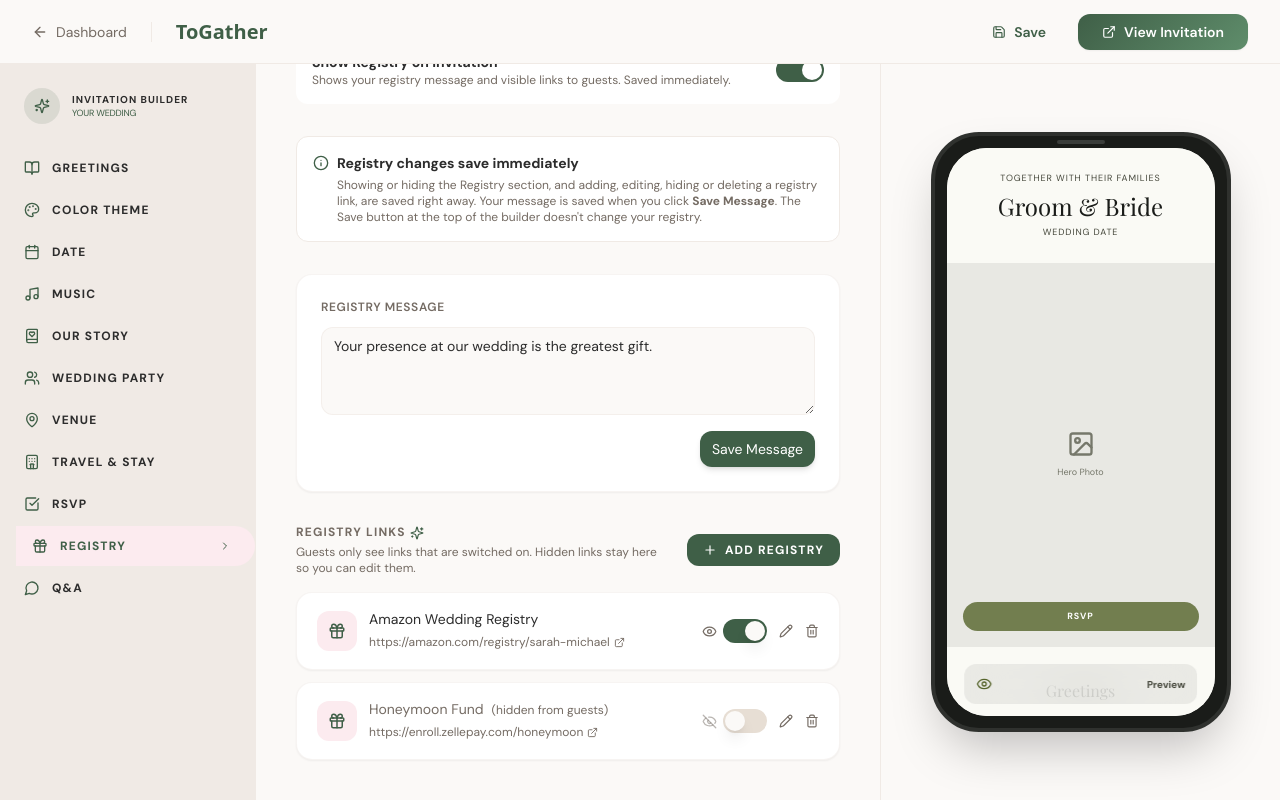
Test: Registry tab — add/edit modal › opens the edit modal populated with the registry values and saves changes
(page scrolled)
expect the element that starts with "Registry" is shown: met, box [256,64,880,799]
Click the button named "Edit Amazon Wedding Registry".
click(786, 631)  # box [779,624,793,638]
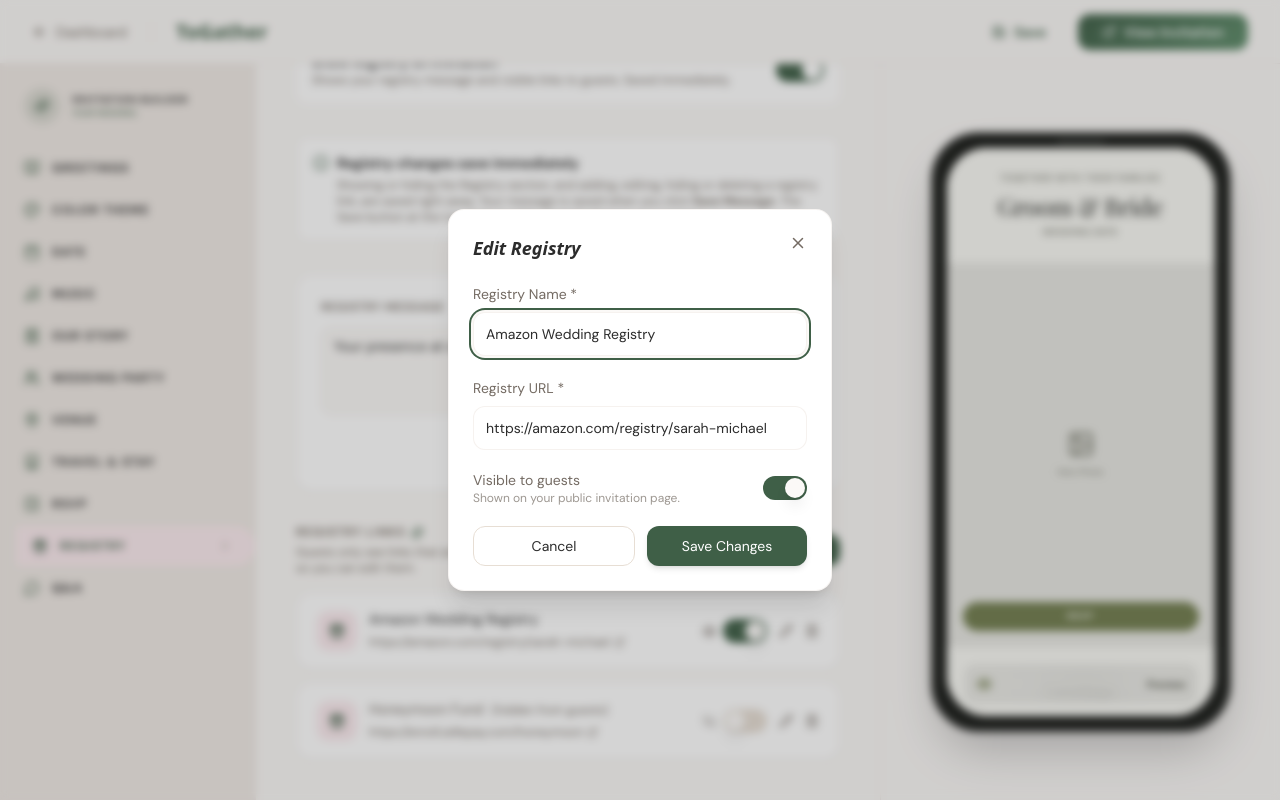
expect the field with placeholder "e.g. Amazon Wedding Registry" holds "Amazon Wedding Registry": met
expect the field with placeholder "https://www.example.com/registry/your-link" holds "https://amazon.com/registry/sarah-michael": met, box [473,406,807,450]
Replace the text in the field with placeholder "e.g. Amazon Wedding Registry" with "Amazon Registry (updated)" at (640, 334), box [473,312,807,356]
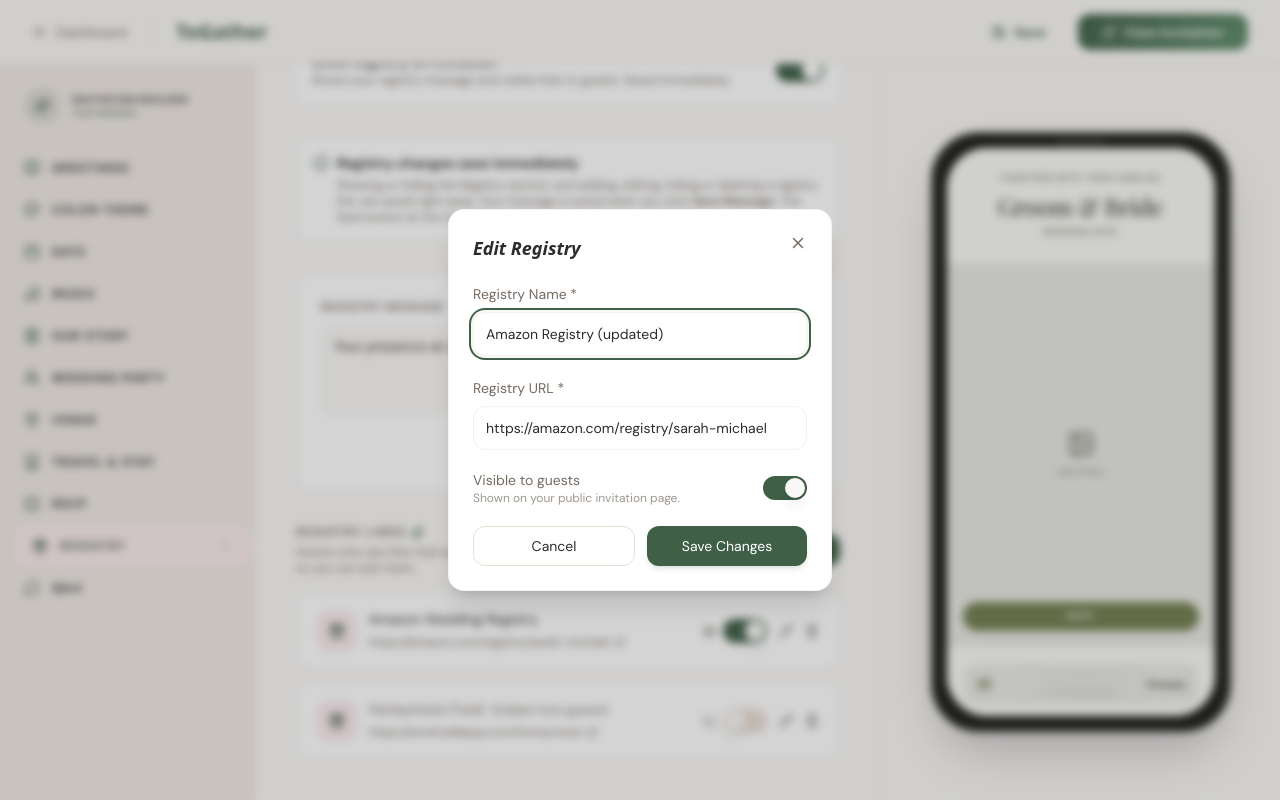
Click the button "Save Changes".
click(727, 546)  # box [647,526,807,566]
(page scrolled)
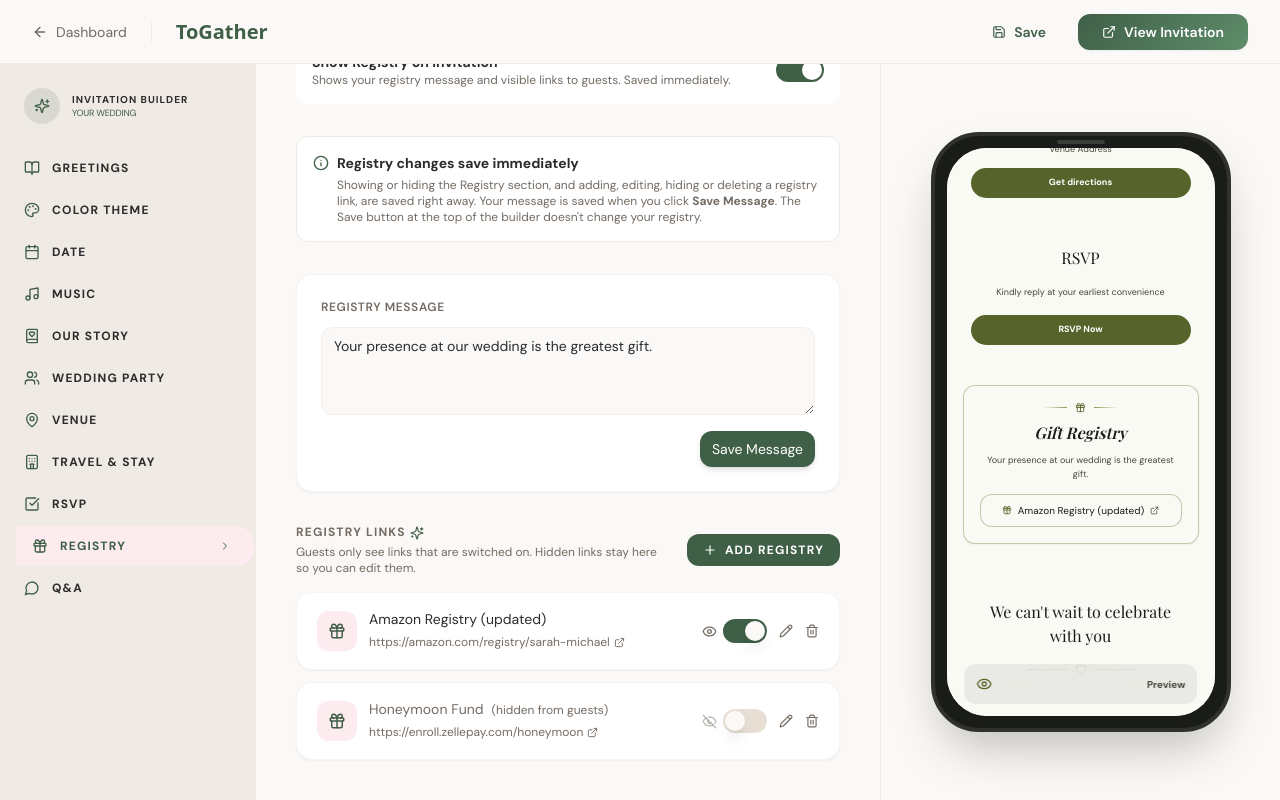
expect the element that starts with "Registry" is shown: met, box [256,64,880,799]
expect the text "Amazon Registry (updated)" below "Registry Links" is shown: met, box [369,610,546,628]
expect the text "Amazon Registry (updated)" below "Gift Registry" is shown: met, box [1018,504,1144,517]
